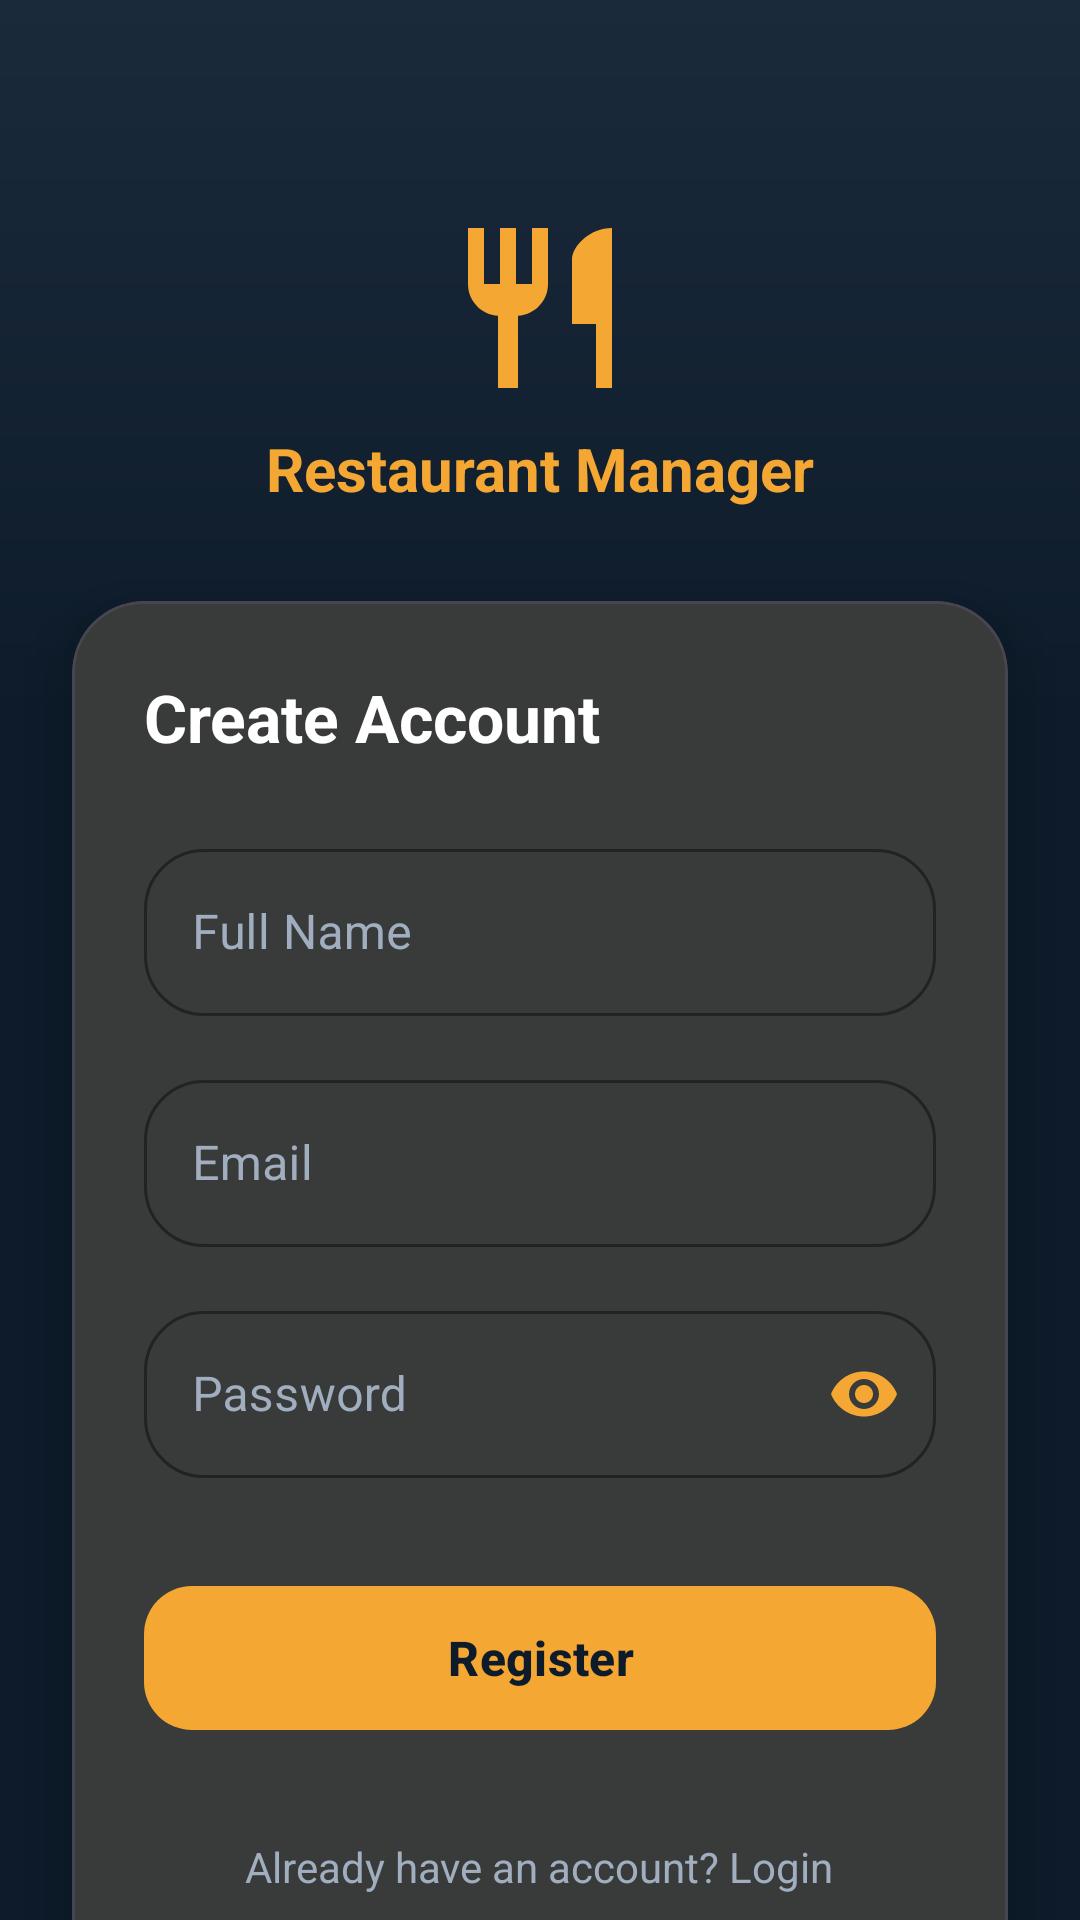

Screen size 1080×1920. Icon name, then its box in pixels as region(x1, y1, x2, y2):
fork knife: region(468, 228, 612, 388)
